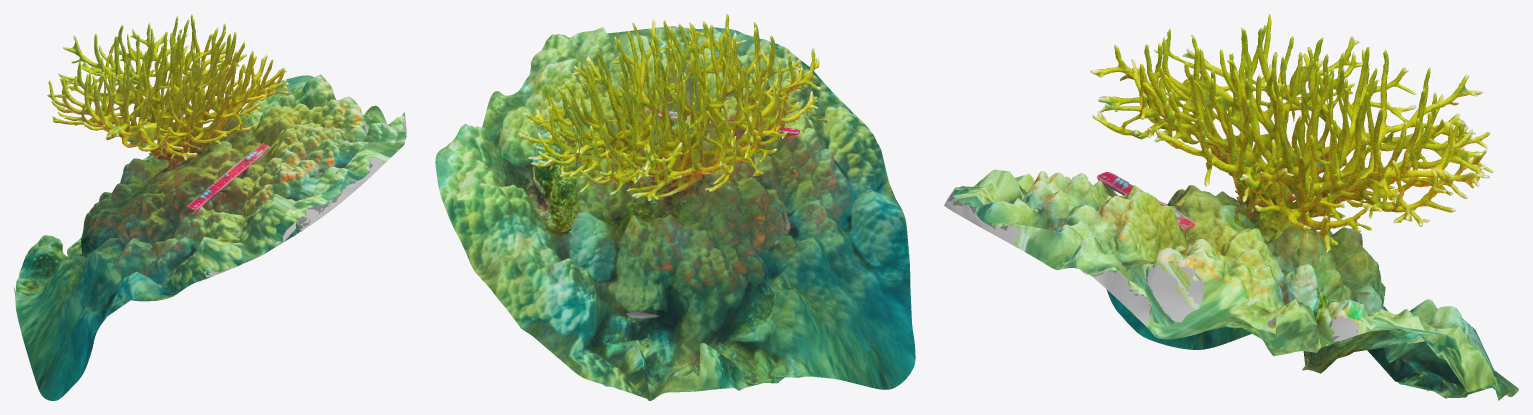
Rendered from acropora_valenciennesi.glb.
The picture shows the model from 3 angles, left to right: view 1: azimuth 30°, elevation 25°; view 2: azimuth 150°, elevation 25°; view 3: azimuth 270°, elevation 25°; orthographic projection. The views are drawn at different scales.
Parts seen in each view (by area): view 1: Object_5, Object_2, Object_3, Object_6, Object_4, Object_7; view 2: Object_2, Object_3, Object_5, Object_6, Object_4; view 3: Object_2, Object_5, Object_3, Object_6, Object_7, Object_4.
Boxes of the visible parts, x1,y1,x2,y2 form: Object_5: (14, 25, 405, 400); Object_2: (88, 16, 406, 234); Object_3: (21, 14, 331, 338); Object_6: (85, 20, 295, 305); Object_4: (105, 62, 309, 301); Object_7: (204, 115, 406, 277); Object_2: (435, 14, 819, 381); Object_3: (435, 39, 909, 400); Object_5: (481, 20, 915, 398); Object_6: (523, 47, 901, 285); Object_4: (669, 34, 897, 235); Object_2: (948, 28, 1518, 400); Object_5: (969, 27, 1487, 381); Object_3: (1015, 14, 1495, 398); Object_6: (1065, 29, 1399, 293); Object_7: (944, 90, 1467, 345); Object_4: (986, 28, 1261, 205).
Size of the model in its own units: 36.83 by 29.17 by 36.72.
3 materials, 2 textured.
